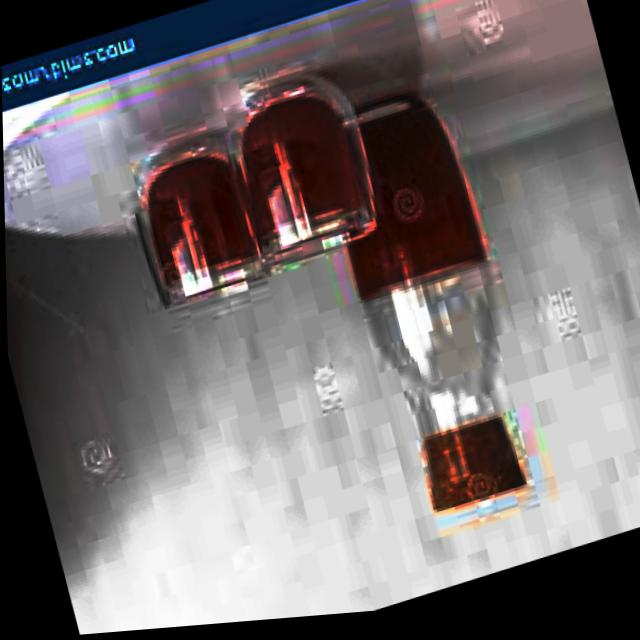drink: (218, 53, 390, 277), (118, 121, 275, 327)
